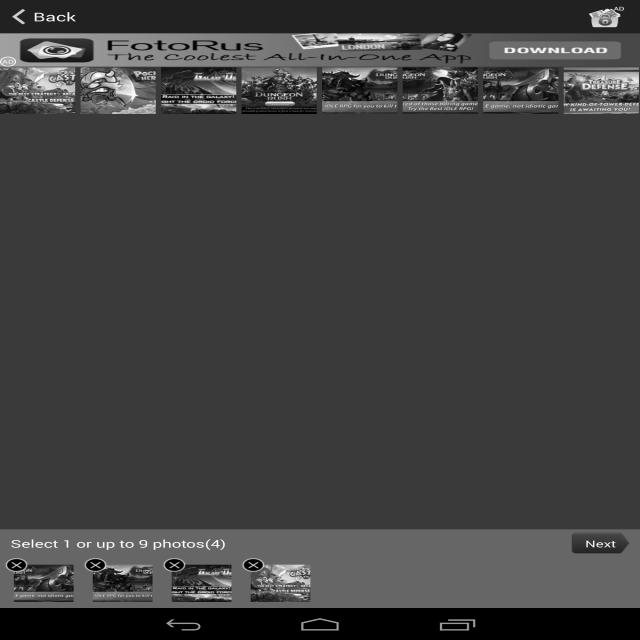Button: (572, 532, 629, 554)
ImageButton: (14, 565, 73, 602), (93, 565, 152, 602), (172, 565, 231, 602), (251, 565, 310, 602), (74, 552, 117, 578), (153, 552, 196, 578), (232, 552, 275, 578), (0, 552, 38, 578)
ImageView: (80, 67, 156, 114), (0, 67, 75, 114), (161, 67, 236, 114), (322, 67, 397, 114), (403, 67, 478, 114), (564, 67, 639, 114), (242, 67, 316, 114), (484, 67, 558, 114), (0, 4, 37, 28), (589, 5, 626, 28)
TextView: (10, 536, 640, 550), (33, 8, 76, 25), (0, 56, 16, 66)
